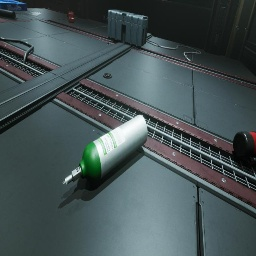0: (63, 115, 148, 185)
FireExtinguisher ]: (233, 131, 256, 164)
FirstAidBox ,: (67, 11, 74, 23)
